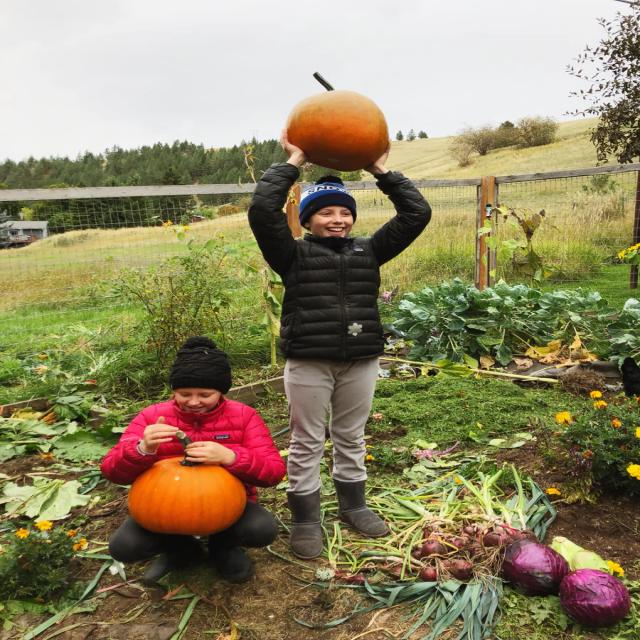pumpkin: (287, 72, 388, 171), (128, 458, 247, 535)
